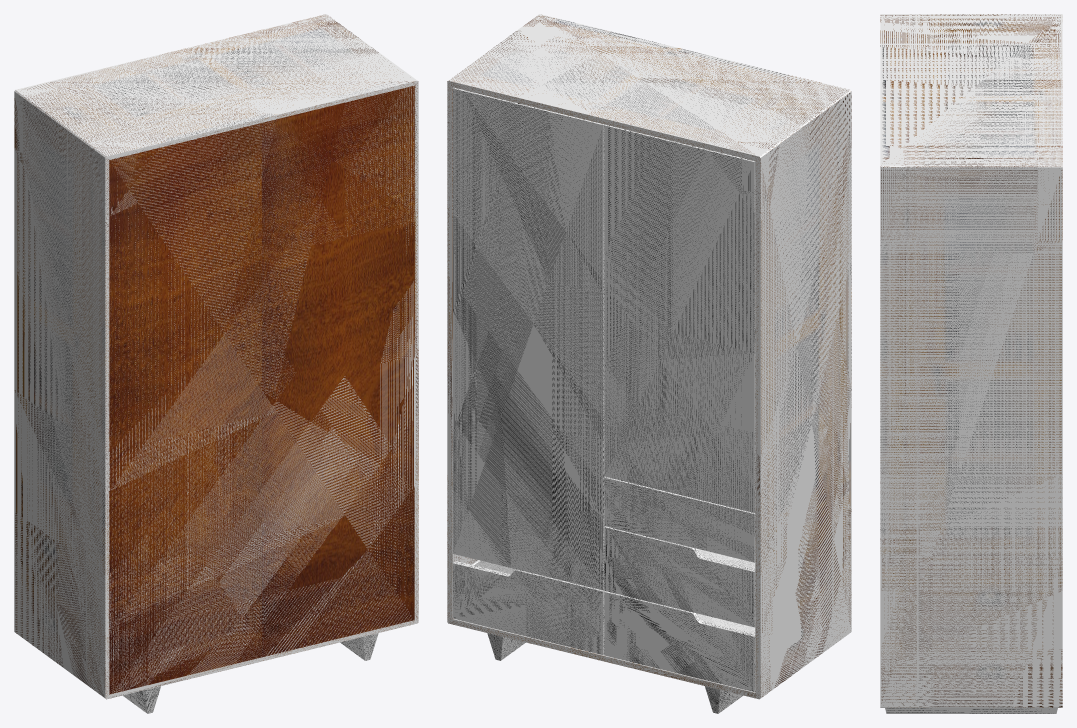
The picture shows the model from 3 angles, left to right: view 1: azimuth 30°, elevation 25°; view 2: azimuth 150°, elevation 25°; view 3: azimuth 270°, elevation 25°; orthographic projection.
Parts seen in each view (by area): view 1: mesh1_mesh1-geometry, mesh21_mesh21-geometry, mesh14_mesh14-geometry, mesh12_mesh12-geometry, mesh17_mesh17-geometry, mesh15_mesh15-geometry; view 2: mesh19_mesh19-geometry, mesh16_mesh16-geometry, mesh21_mesh21-geometry, mesh14_mesh14-geometry, mesh5_mesh5-geometry, mesh7_mesh7-geometry, mesh2_mesh2-geometry, mesh12_mesh12-geometry, mesh17_mesh17-geometry, mesh15_mesh15-geometry, mesh4_mesh4-geometry; view 3: mesh12_mesh12-geometry, mesh14_mesh14-geometry, mesh15_mesh15-geometry.
Part boxes in pixels (bbox=[...]): mesh1_mesh1-geometry: bbox=[109, 85, 414, 694]; mesh21_mesh21-geometry: bbox=[14, 91, 109, 698]; mesh14_mesh14-geometry: bbox=[15, 14, 417, 159]; mesh12_mesh12-geometry: bbox=[414, 81, 418, 622]; mesh17_mesh17-geometry: bbox=[106, 620, 417, 699]; mesh15_mesh15-geometry: bbox=[123, 633, 378, 713]; mesh19_mesh19-geometry: bbox=[453, 87, 604, 590]; mesh16_mesh16-geometry: bbox=[604, 124, 755, 512]; mesh21_mesh21-geometry: bbox=[755, 91, 851, 698]; mesh14_mesh14-geometry: bbox=[448, 14, 850, 160]; mesh5_mesh5-geometry: bbox=[604, 526, 755, 692]; mesh7_mesh7-geometry: bbox=[453, 561, 604, 655]; mesh2_mesh2-geometry: bbox=[604, 476, 755, 562]; mesh12_mesh12-geometry: bbox=[447, 81, 477, 622]; mesh17_mesh17-geometry: bbox=[448, 618, 759, 699]; mesh15_mesh15-geometry: bbox=[487, 633, 742, 713]; mesh4_mesh4-geometry: bbox=[697, 549, 755, 633]; mesh12_mesh12-geometry: bbox=[880, 166, 1062, 707]; mesh14_mesh14-geometry: bbox=[880, 14, 1062, 166]; mesh15_mesh15-geometry: bbox=[885, 708, 1057, 713].
Size of the model in its own units: 0.4834 by 0.8408 by 0.2437.
